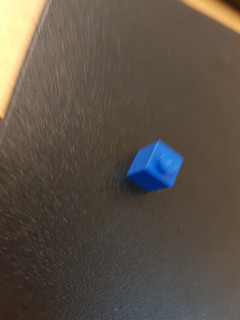1x1 blue: (127, 140, 184, 193)
